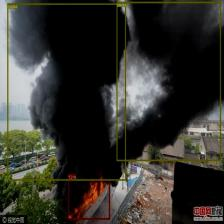fire: (68, 179, 110, 219)
smoke: (7, 3, 126, 180), (116, 1, 221, 161)
